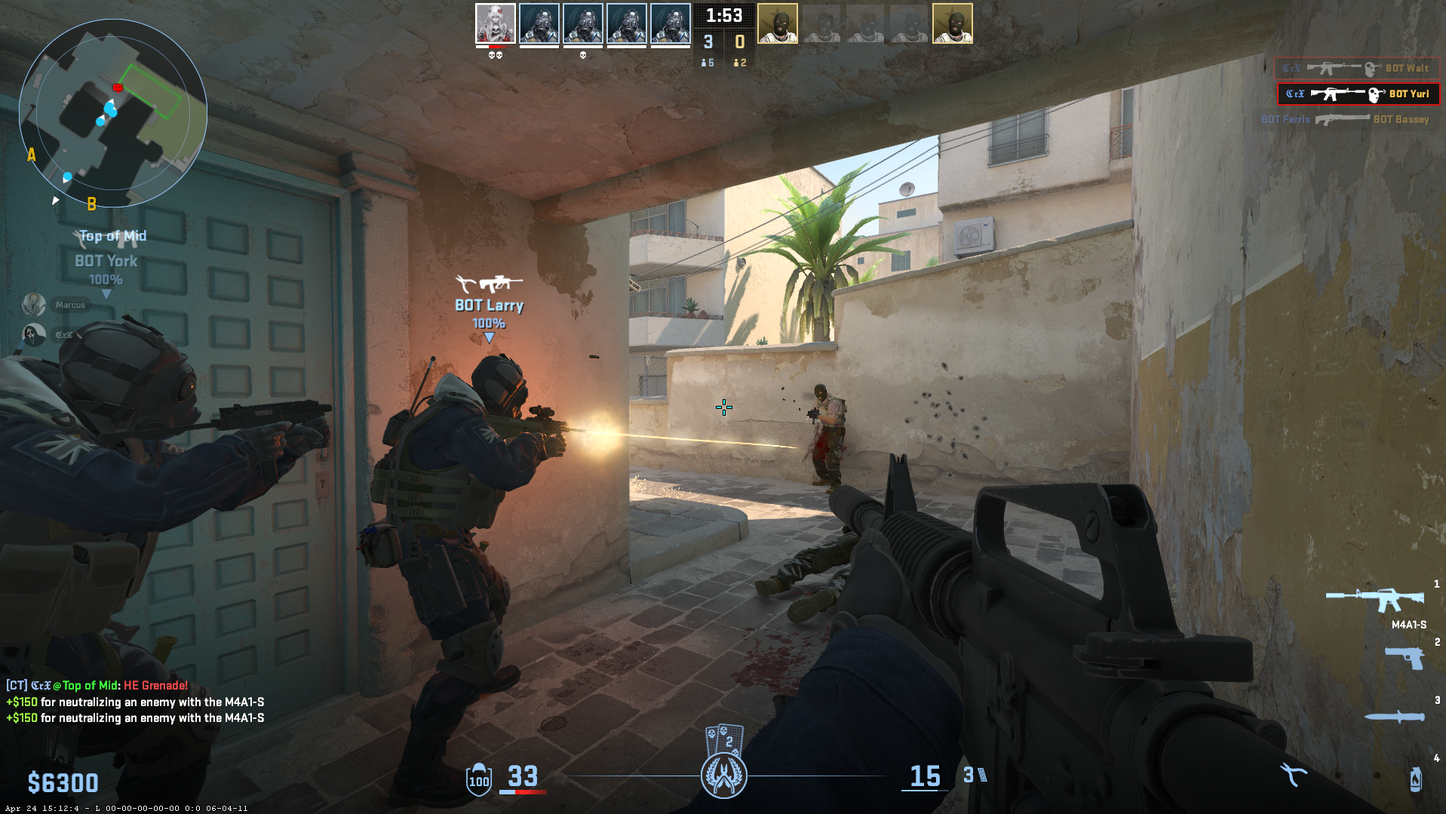CT: (2, 351, 331, 677), (362, 355, 567, 766)
T: (808, 383, 848, 489)
